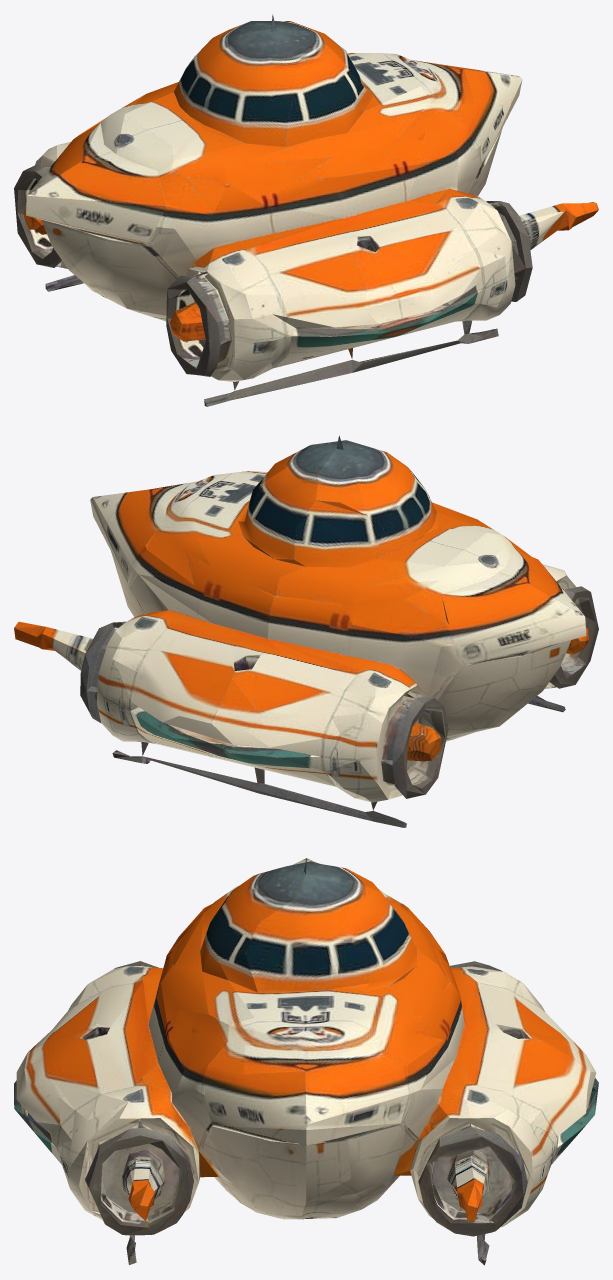
Rendered from nation-e-scout.glb.
3 views of the same model, one above another, from view 1: azimuth 30°, elevation 25°; view 2: azimuth 150°, elevation 25°; view 3: azimuth 270°, elevation 25° (orthographic). The views are drawn at different scales.
Size of the model in its own units: 1.89 by 1.12 by 1.74.
Materials: 1 (1 with a texture image).
